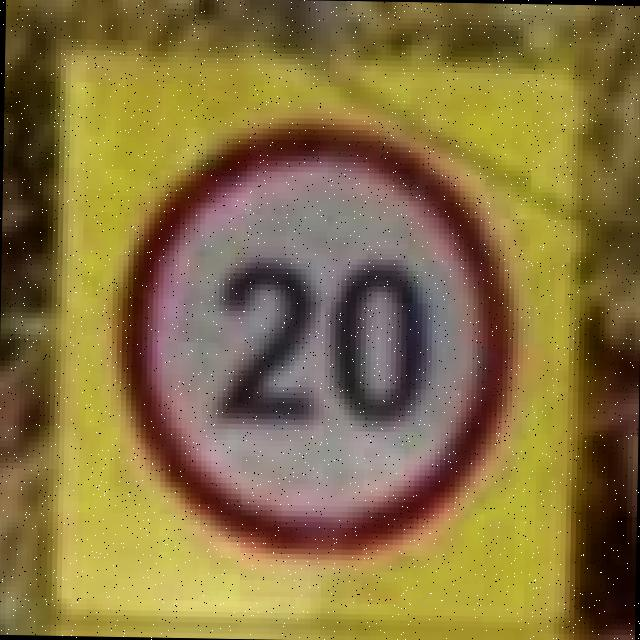Ograniczenie predkosci do 20: (108, 114, 532, 574)
